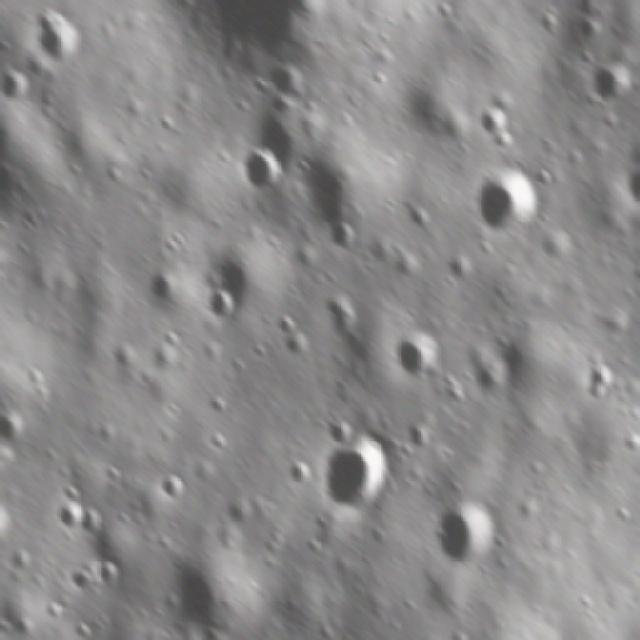crater: (313, 432, 398, 511), (22, 0, 100, 75), (468, 165, 538, 240), (434, 493, 500, 564), (230, 144, 293, 193), (390, 324, 444, 376), (586, 56, 629, 113), (52, 494, 106, 534), (67, 558, 122, 594), (153, 466, 187, 514), (202, 284, 242, 324), (615, 159, 640, 218), (3, 410, 28, 453)
